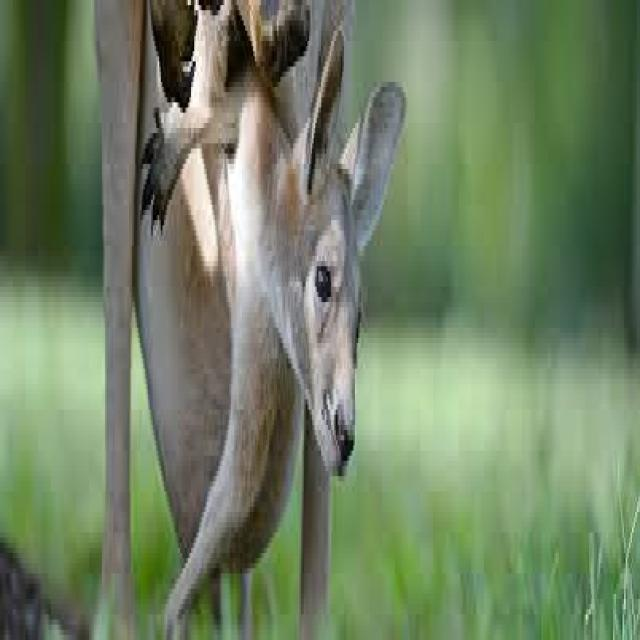Kangaroo: (140, 17, 409, 621)
